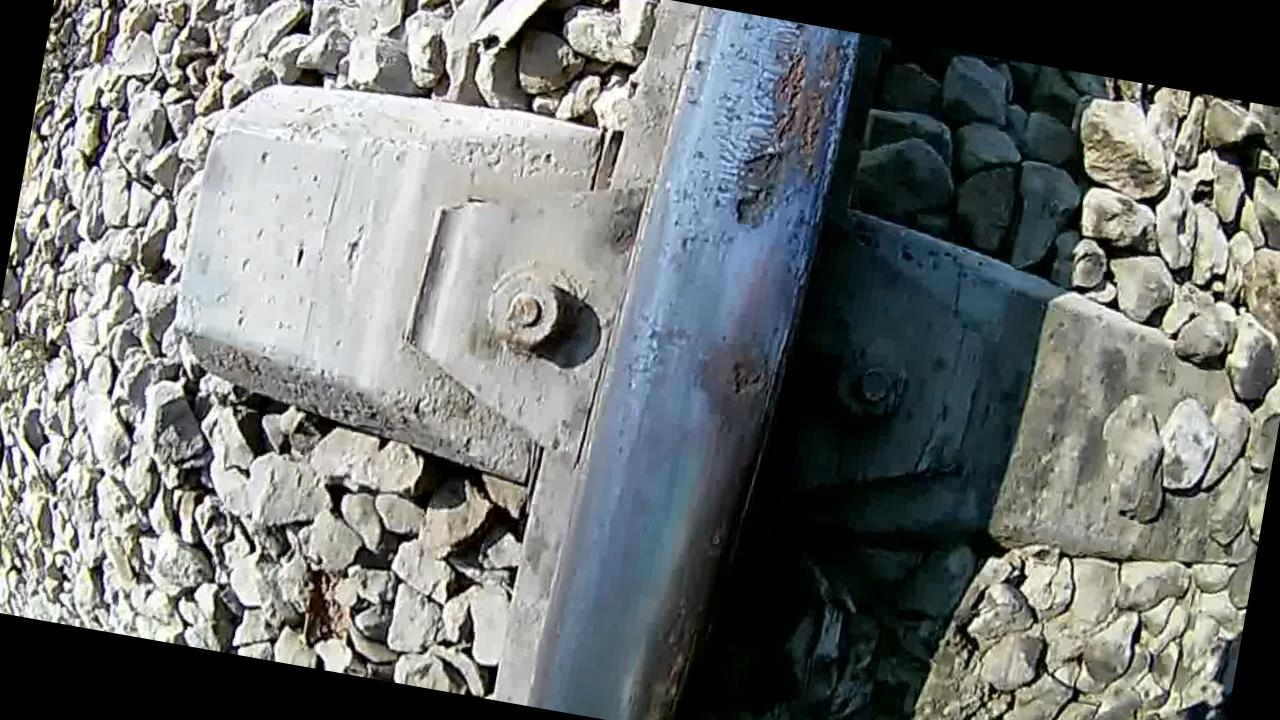crack: (560, 3, 864, 720)
